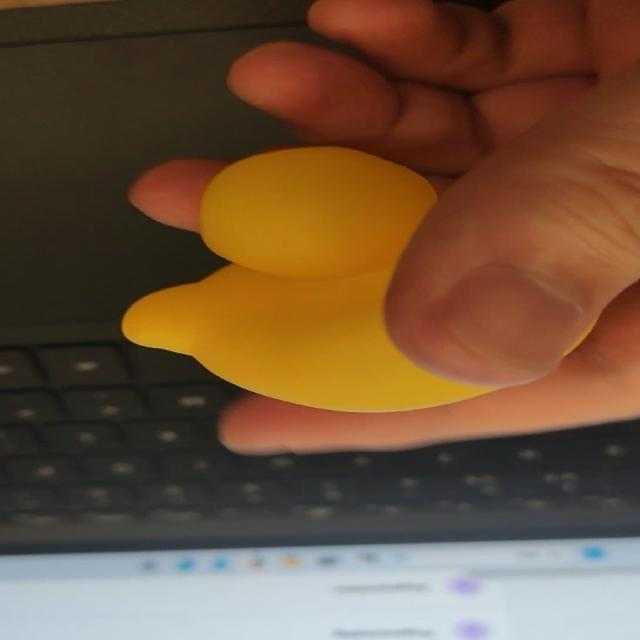rubber-duck: (121, 145, 492, 410)
